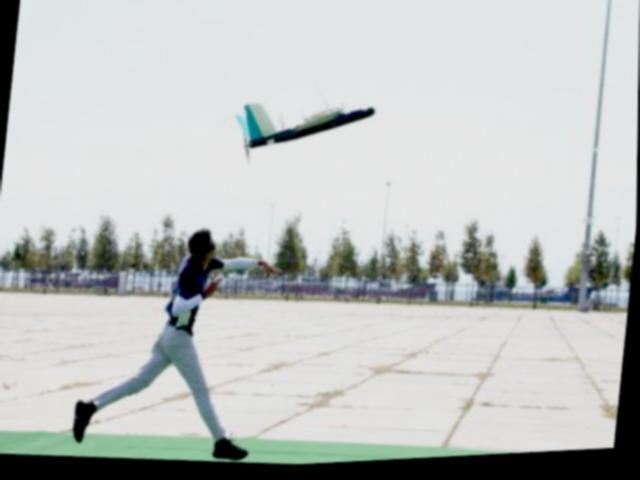uav: (232, 93, 380, 165)
